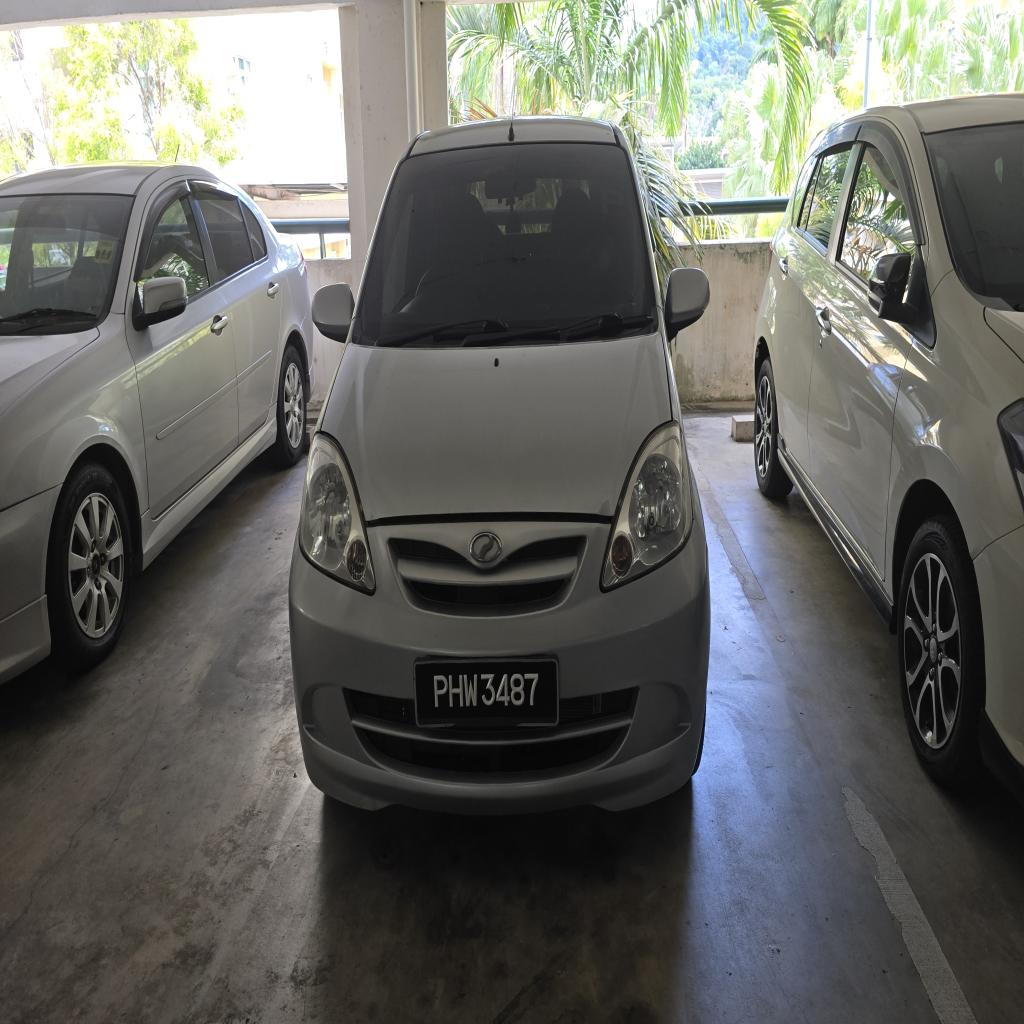car: (291, 119, 709, 812)
car plate: (415, 659, 557, 726)
